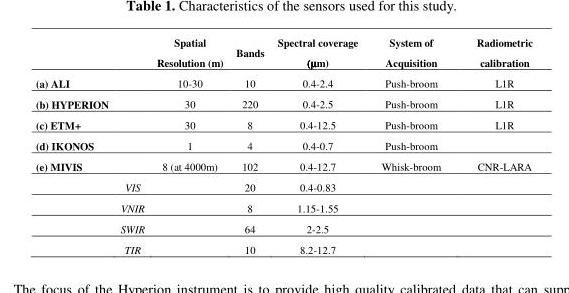table: (34, 34, 532, 256)
table column: (270, 34, 369, 256), (34, 34, 131, 256), (131, 34, 228, 256), (369, 34, 457, 256), (457, 34, 532, 256), (228, 34, 270, 256)
table column header: (34, 34, 532, 72)
table row: (34, 34, 532, 72), (34, 72, 532, 93), (34, 93, 532, 114), (34, 134, 532, 155), (34, 155, 532, 176), (34, 196, 532, 217), (34, 217, 532, 238), (34, 114, 532, 134), (34, 176, 532, 196), (34, 238, 532, 256)
table spanning cell: (34, 196, 228, 217), (34, 217, 228, 238), (34, 176, 228, 196), (34, 238, 228, 256)
